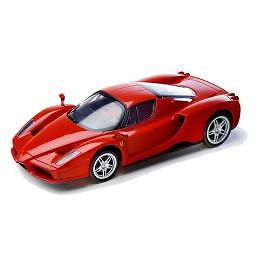car: (9, 69, 244, 187)
